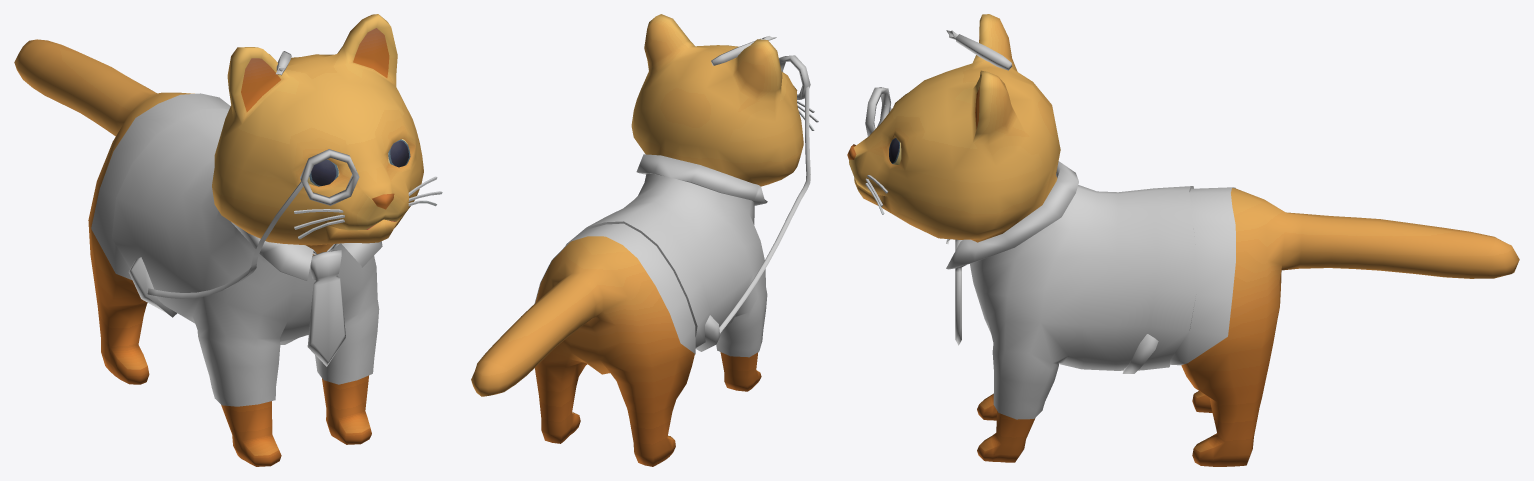
The model's file is History Cat.obj.
3 renders of one model, left to right at view 1: azimuth 30°, elevation 25°; view 2: azimuth 150°, elevation 25°; view 3: azimuth 270°, elevation 25°, orthographic. The views are drawn at different scales.
Visible parts, largest first — view 1: Cat001, Clothes; view 2: Cat001, Clothes; view 3: Cat001, Clothes.
Part boxes in pixels (x1,y1,x2,y2): Cat001: (14, 14, 442, 466); Clothes: (91, 51, 382, 406); Cat001: (471, 14, 818, 466); Clothes: (534, 36, 810, 357); Cat001: (847, 14, 1519, 466); Clothes: (865, 30, 1235, 419).
Bounding box in the file's own units: 70.69 × 146 × 227.
